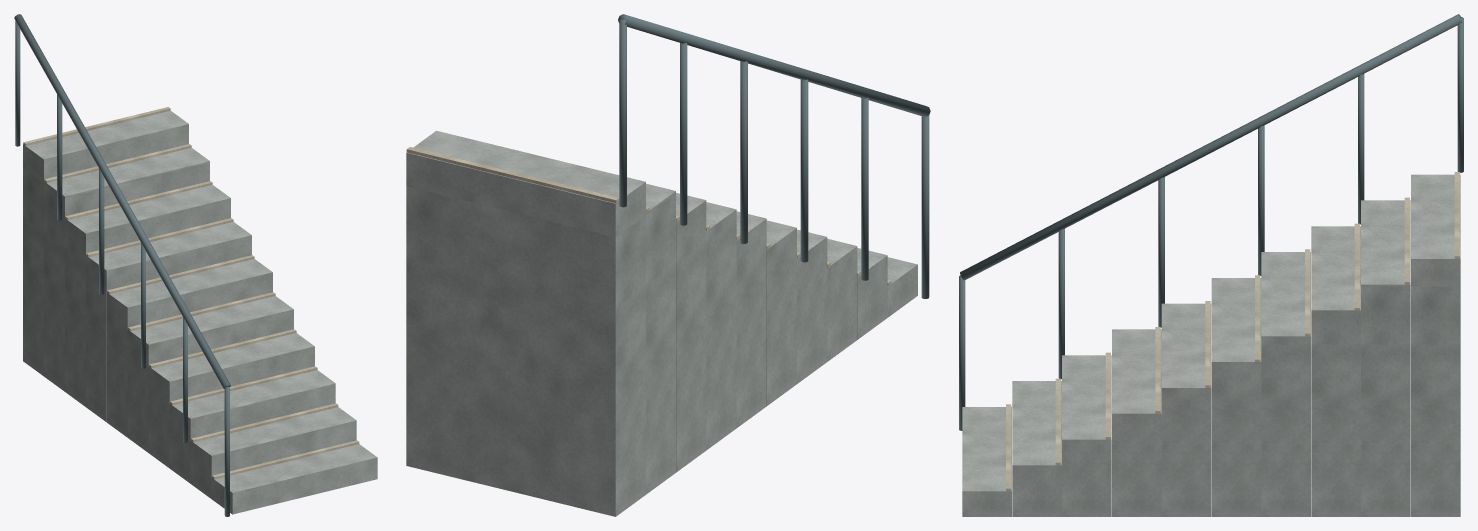
The model's file is Stair_Flight_Return.glb.
3 views of the same model, side by side, from view 1: azimuth 30°, elevation 25°; view 2: azimuth 150°, elevation 25°; view 3: azimuth 270°, elevation 25° (orthographic). The views are drawn at different scales.
Visible parts, largest first — view 1: VIS_upper_Step_10_0018, VIS_upper_Step_09_0016, VIS_upper_Step_08_0014, VIS_upper_Step_07_0012, VIS_upper_Step_06_0010, VIS_upper_Step_05_0008, VIS_upper_Step_04_0006, VIS_upper_Step_03_0004, VIS_upper_Step_02_0002, VIS_upper_Step_01_0000, VIS_upper_Handrail_0026, VIS_upper_Railpost_0_0020 (+15 smaller); view 2: VIS_upper_Step_10_0018, VIS_upper_Step_09_0016, VIS_upper_Step_08_0014, VIS_upper_Step_07_0012, VIS_upper_Step_06_0010, VIS_upper_Step_05_0008, VIS_upper_Step_04_0006, VIS_upper_Handrail_0026, VIS_upper_Step_03_0004, VIS_upper_Step_02_0002, VIS_upper_Railpost_0_0020, VIS_upper_Railpost_2_0022 (+6 smaller); view 3: VIS_upper_Step_10_0018, VIS_upper_Step_09_0016, VIS_upper_Step_08_0014, VIS_upper_Step_07_0012, VIS_upper_Step_06_0010, VIS_upper_Step_05_0008, VIS_upper_Step_04_0006, VIS_upper_Step_03_0004, VIS_upper_Step_02_0002, VIS_upper_Handrail_0026, VIS_upper_Step_01_0000, VIS_upper_Railpost_5_0025 (+5 smaller).
Boxes of the visible parts, <box> form: VIS_upper_Step_10_0018: <box>23,110,188,376</box>; VIS_upper_Step_09_0016: <box>44,147,209,391</box>; VIS_upper_Step_08_0014: <box>65,185,230,406</box>; VIS_upper_Step_07_0012: <box>86,222,251,422</box>; VIS_upper_Step_06_0010: <box>107,259,272,437</box>; VIS_upper_Step_05_0008: <box>127,296,293,452</box>; VIS_upper_Step_04_0006: <box>148,333,314,468</box>; VIS_upper_Step_03_0004: <box>169,370,335,483</box>; VIS_upper_Step_02_0002: <box>190,407,356,498</box>; VIS_upper_Step_01_0000: <box>211,444,377,514</box>; VIS_upper_Handrail_0026: <box>14,14,230,389</box>; VIS_upper_Railpost_0_0020: <box>224,386,229,516</box>; VIS_upper_Step_10_0018: <box>406,130,645,516</box>; VIS_upper_Step_09_0016: <box>646,183,675,494</box>; VIS_upper_Step_08_0014: <box>676,193,706,472</box>; VIS_upper_Step_07_0012: <box>706,202,736,450</box>; VIS_upper_Step_06_0010: <box>736,211,766,427</box>; VIS_upper_Step_05_0008: <box>766,220,796,405</box>; VIS_upper_Step_04_0006: <box>797,229,827,383</box>; VIS_upper_Handrail_0026: <box>618,14,930,117</box>; VIS_upper_Step_03_0004: <box>827,239,857,361</box>; VIS_upper_Step_02_0002: <box>857,248,887,339</box>; VIS_upper_Railpost_0_0020: <box>921,115,929,298</box>; VIS_upper_Railpost_2_0022: <box>800,79,808,262</box>; VIS_upper_Step_10_0018: <box>1411,174,1460,516</box>; VIS_upper_Step_09_0016: <box>1361,200,1410,516</box>; VIS_upper_Step_08_0014: <box>1311,226,1360,516</box>; VIS_upper_Step_07_0012: <box>1261,252,1310,516</box>; VIS_upper_Step_06_0010: <box>1211,278,1261,516</box>; VIS_upper_Step_05_0008: <box>1161,303,1211,516</box>; VIS_upper_Step_04_0006: <box>1112,329,1161,516</box>; VIS_upper_Step_03_0004: <box>1062,355,1111,516</box>; VIS_upper_Step_02_0002: <box>1012,381,1061,516</box>; VIS_upper_Handrail_0026: <box>960,14,1462,280</box>; VIS_upper_Step_01_0000: <box>962,407,1011,516</box>; VIS_upper_Railpost_5_0025: <box>1457,17,1463,172</box>.
Size of the model in its own units: 1.19 by 2.57 by 2.84.
Materials: 3 (3 with a texture image).
